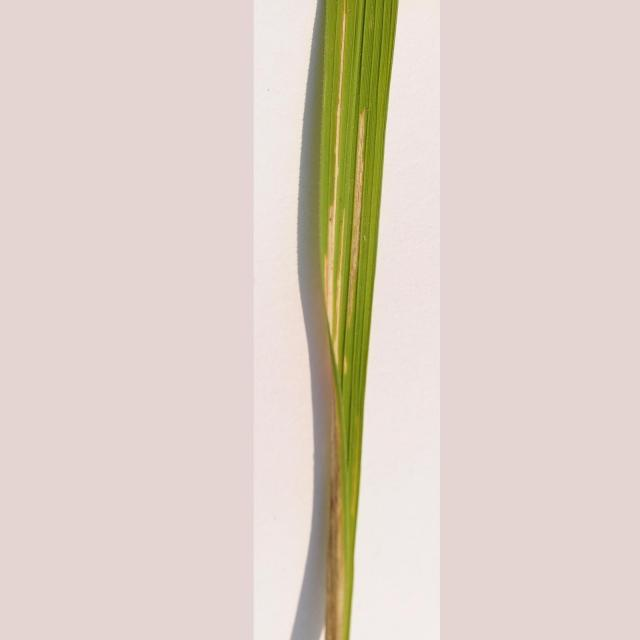leaf blight: (309, 1, 383, 640)
